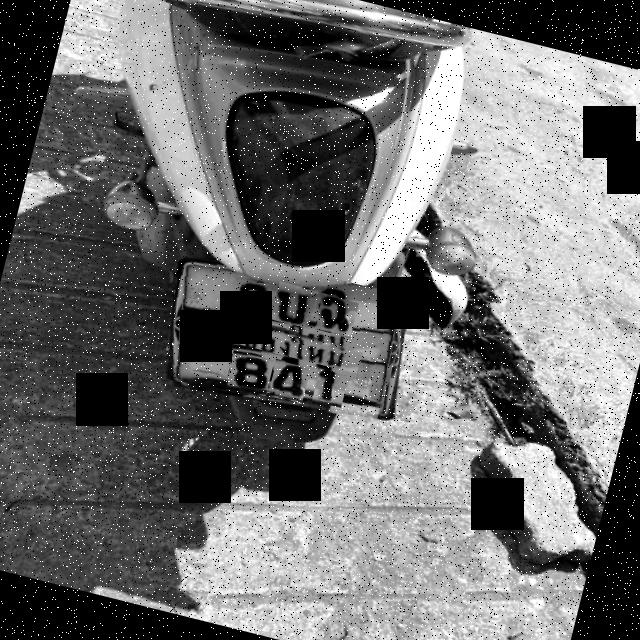letters: (225, 276, 276, 326), (224, 350, 274, 397), (270, 282, 318, 328), (312, 292, 358, 338), (266, 358, 310, 404), (312, 368, 349, 408)
license-plate: (174, 262, 405, 411)
province: (222, 311, 364, 374)
